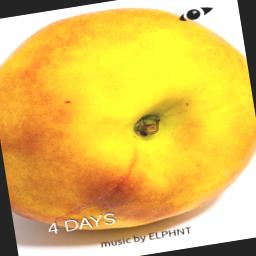Peach Ripe: (0, 0, 256, 246)
